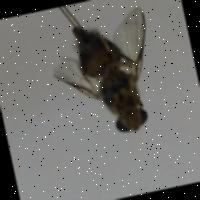Oriental-fruit-fly: (43, 0, 170, 157)
